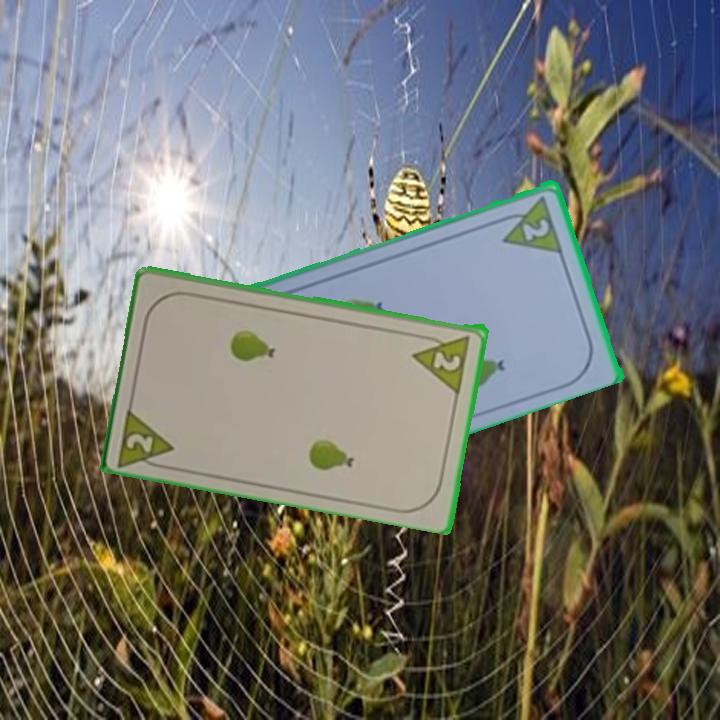2p: (114, 401, 178, 472), (519, 214, 553, 243), (430, 346, 464, 374)
